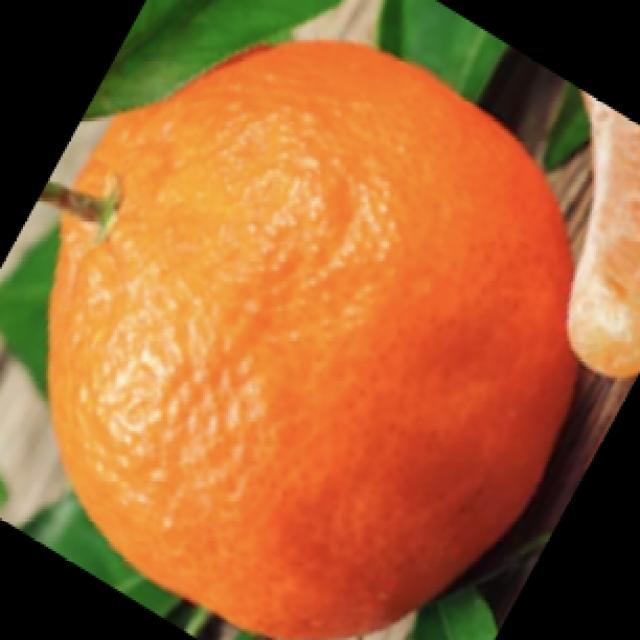fresh: (21, 22, 594, 640)
